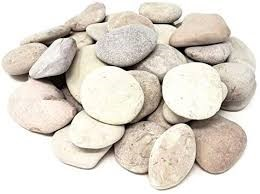rock: (2, 0, 256, 190)
